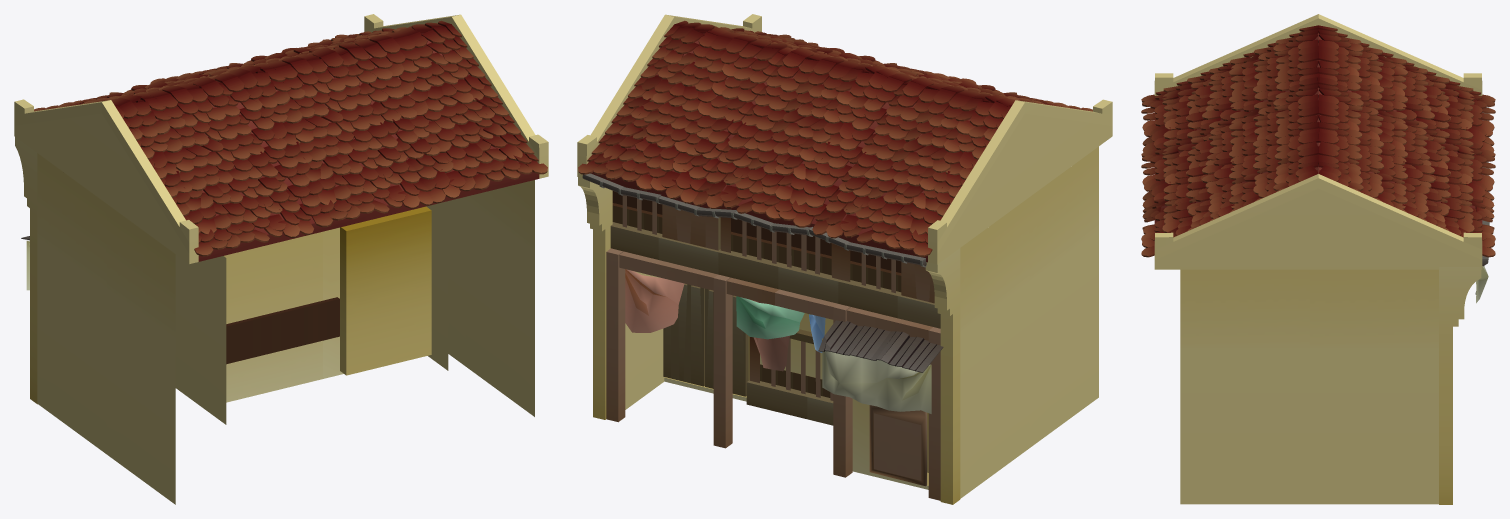
The model's file is SM_FacadeOldQuarter_triple_01.fbx.
The picture shows the model from 3 angles, left to right: view 1: azimuth 30°, elevation 25°; view 2: azimuth 150°, elevation 25°; view 3: azimuth 270°, elevation 25°; orthographic projection. The views are drawn at different scales.
Visible parts, largest first — view 1: SM_FacadeOldQuarter_triple_01.001; view 2: SM_FacadeOldQuarter_triple_01.001; view 3: SM_FacadeOldQuarter_triple_01.001.
Part boxes in pixels (left/top/right/bottom): SM_FacadeOldQuarter_triple_01.001: left=14, top=14, right=548, bottom=504; SM_FacadeOldQuarter_triple_01.001: left=577, top=14, right=1112, bottom=504; SM_FacadeOldQuarter_triple_01.001: left=1141, top=14, right=1495, bottom=504.
Size of the model in its own units: 900 by 836 by 822.
